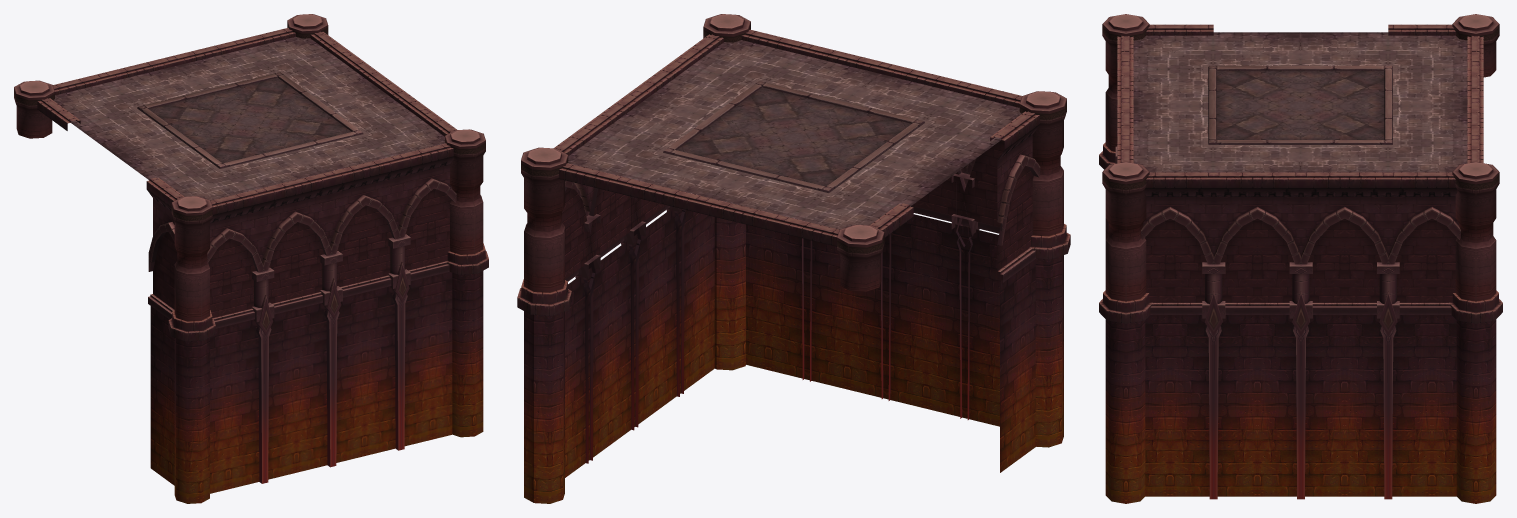
File: Dungeons_03_02_02.FBX
The picture shows the model from 3 angles, left to right: view 1: azimuth 30°, elevation 25°; view 2: azimuth 150°, elevation 25°; view 3: azimuth 270°, elevation 25°; orthographic projection. The views are drawn at different scales.
Parts seen in each view (by area): view 1: Object364; view 2: Object364; view 3: Object364.
Boxes of the visible parts, box(x1,y1,x2,y2) form: Object364: box(14, 14, 488, 503); Object364: box(517, 14, 1070, 503); Object364: box(1099, 14, 1502, 503).
Size of the model in its own units: 201 by 180 by 201.
